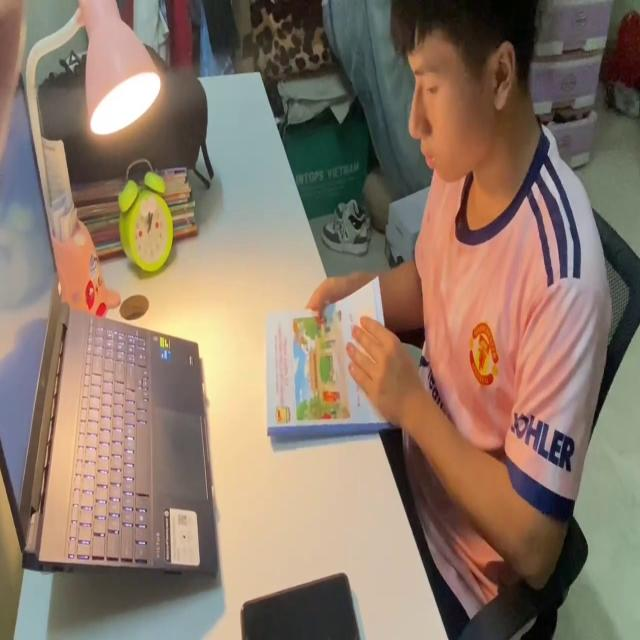book: (264, 272, 396, 438)
laptop: (0, 66, 223, 584)
phone: (240, 573, 362, 640)
student: (304, 3, 610, 640)
